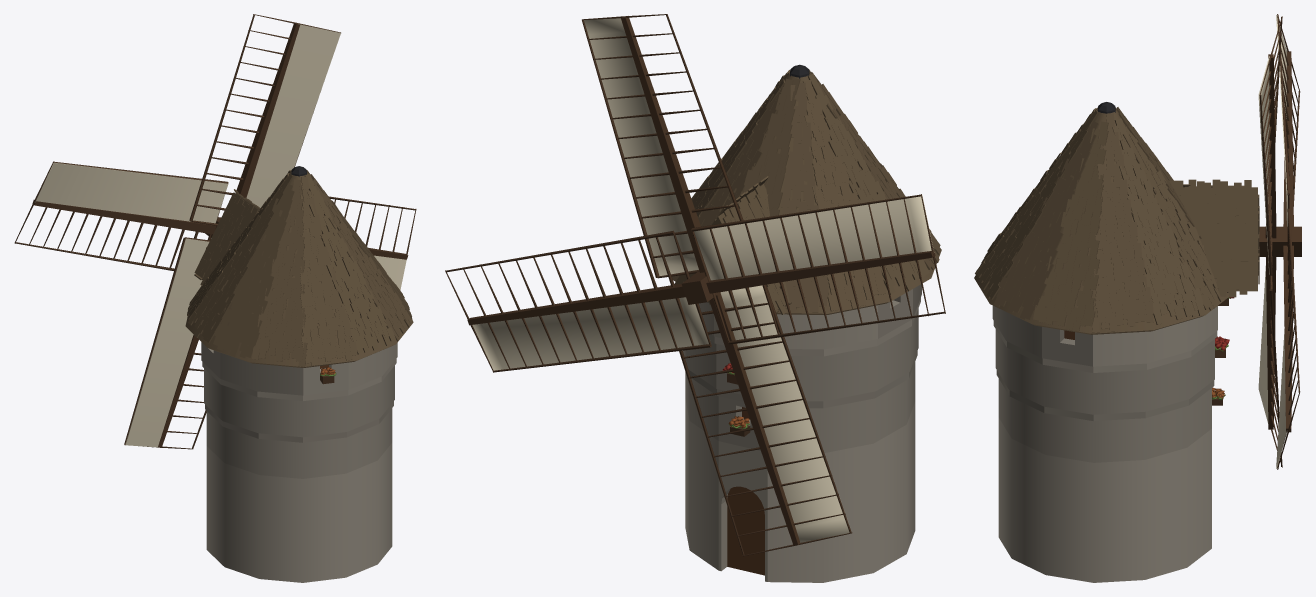
The model's file is windmill_01.glb.
The picture shows the model from 3 angles, left to right: view 1: azimuth 30°, elevation 25°; view 2: azimuth 150°, elevation 25°; view 3: azimuth 270°, elevation 25°; orthographic projection. The views are drawn at different scales.
Parts seen in each view (by area): view 1: landmark_windmill_01; view 2: landmark_windmill_01; view 3: landmark_windmill_01.
Part boxes in pixels (bbox=[...]): landmark_windmill_01: bbox=[14, 14, 416, 582]; landmark_windmill_01: bbox=[445, 14, 945, 582]; landmark_windmill_01: bbox=[974, 14, 1301, 582].
Size of the model in its own units: 14.21 by 15.76 by 8.7.
